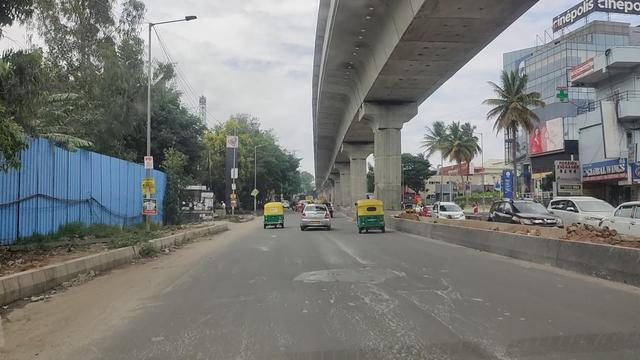LMV: (356, 200, 384, 236), (301, 205, 330, 231), (262, 201, 284, 229)
RoadDamages: (294, 260, 401, 285), (407, 274, 465, 310), (361, 288, 402, 328)
